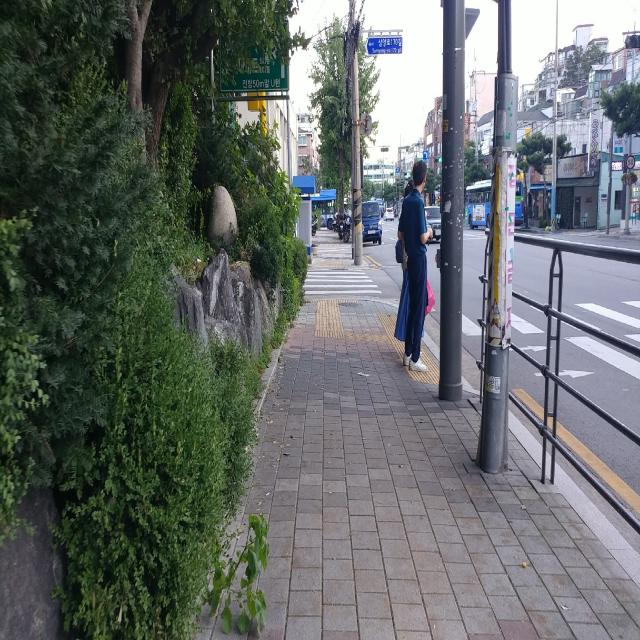횡단보도: (467, 312, 640, 368), (302, 268, 382, 294)
